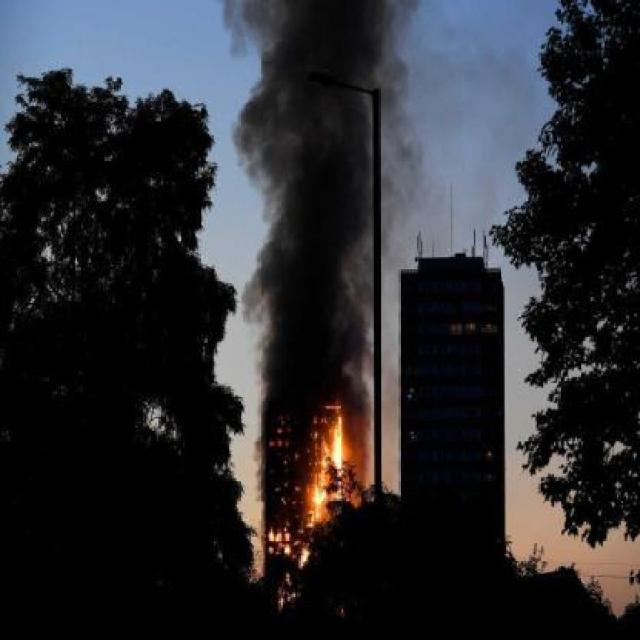Fire: (283, 376, 348, 598)
Smoke: (215, 0, 460, 445)
